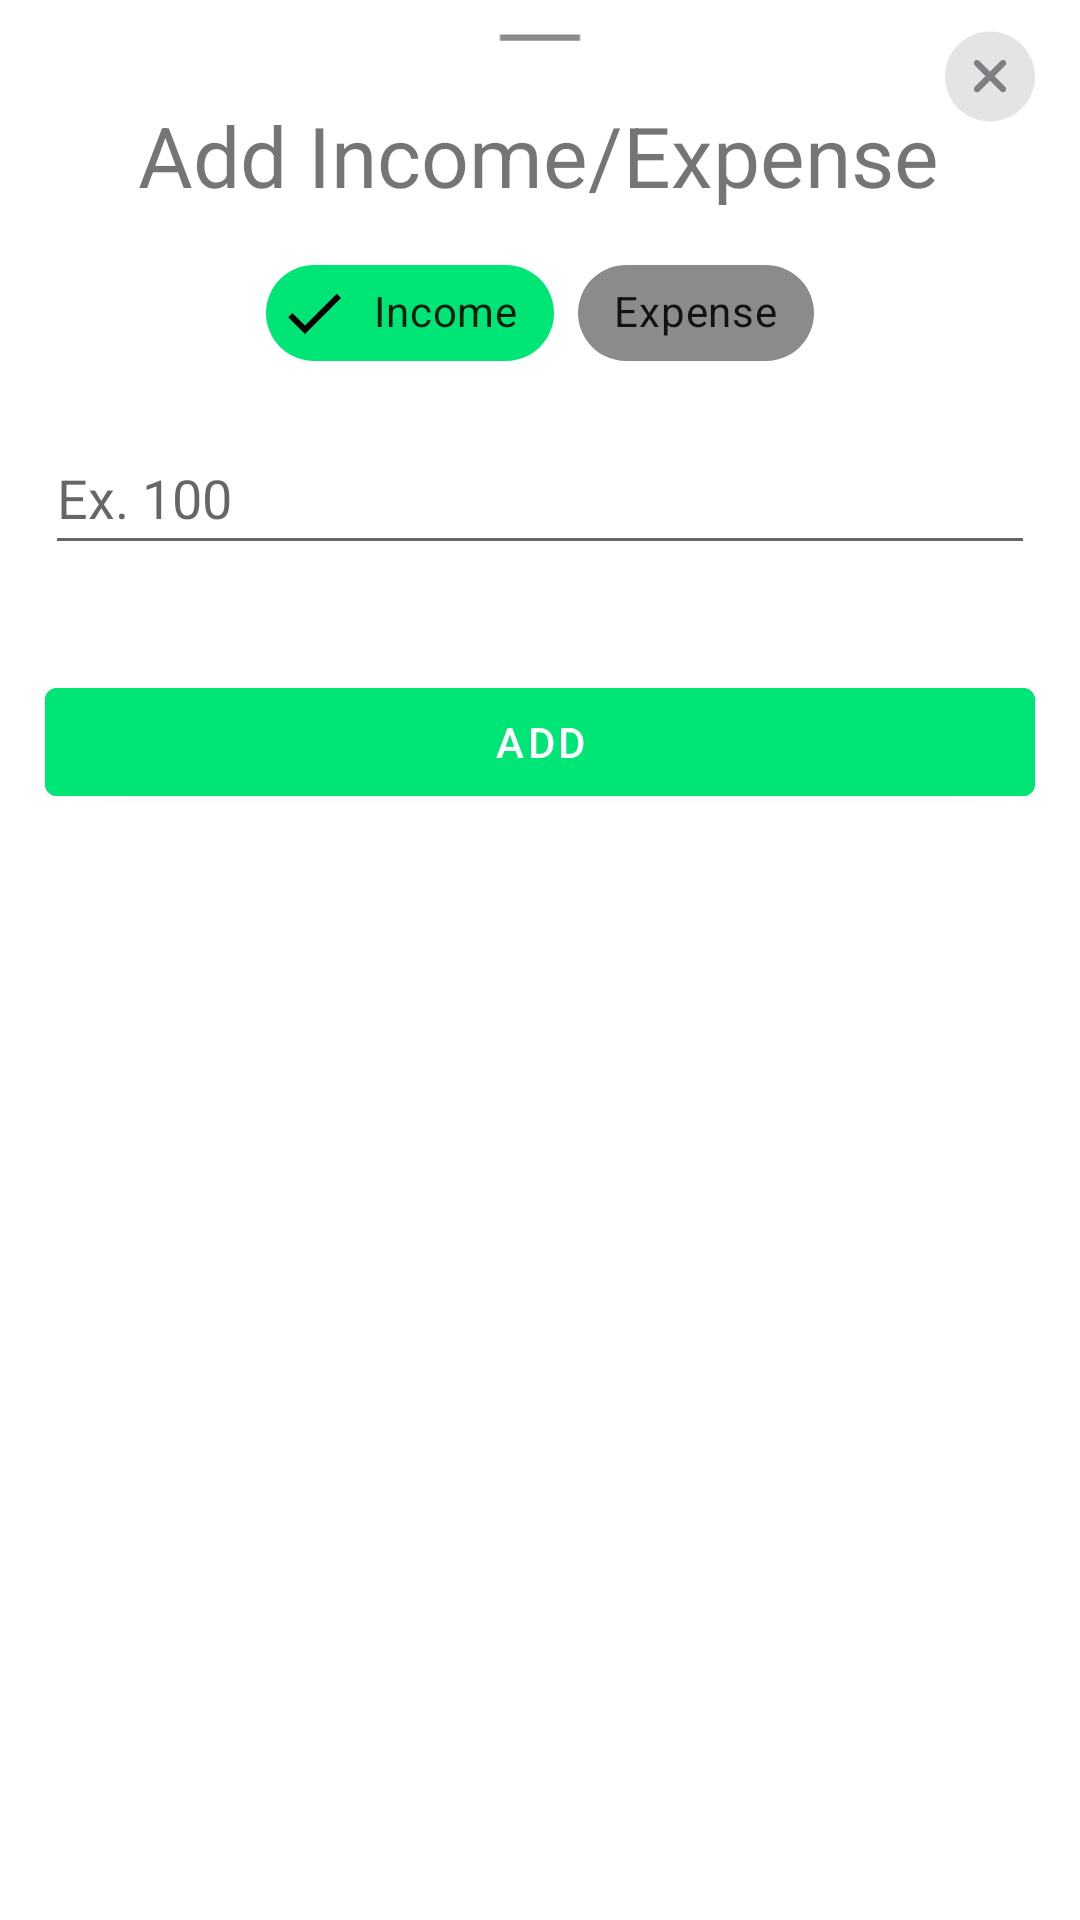

Icon bounding boxes for this 1080px x 1920px phone screenshot, format (x1, y1, x2, y2):
close: (945, 32, 1035, 121)
